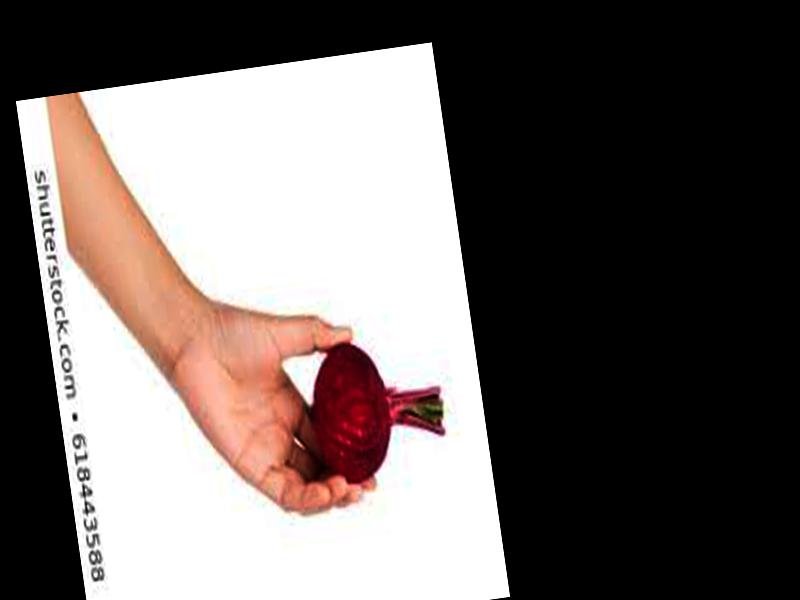Beet: (305, 332, 452, 490)
